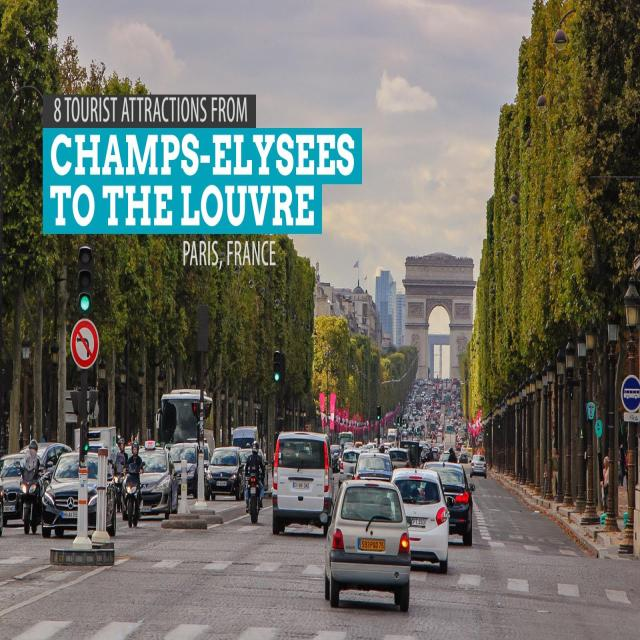body: (394, 397, 467, 446), (18, 437, 42, 518), (244, 439, 266, 514), (1, 425, 46, 450), (416, 449, 434, 498), (122, 441, 144, 475), (419, 450, 433, 496), (112, 438, 128, 477), (416, 373, 453, 388), (550, 446, 560, 498), (542, 450, 552, 501), (446, 446, 458, 481), (602, 455, 610, 507), (619, 444, 626, 488), (617, 447, 622, 487), (600, 480, 606, 513), (338, 443, 344, 467), (427, 447, 434, 460), (378, 444, 386, 454), (246, 442, 250, 448)
